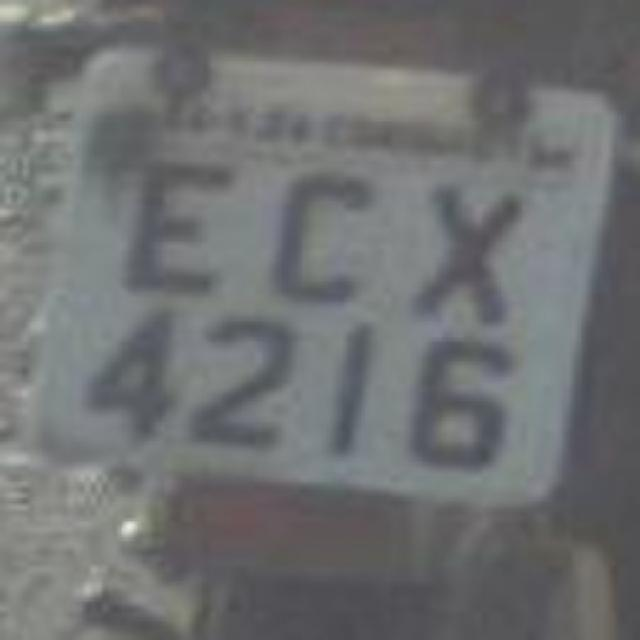1: (300, 304, 408, 464)
2: (172, 296, 320, 472)
4: (72, 288, 200, 484)
6: (396, 308, 532, 472)
C: (244, 152, 376, 296)
E: (96, 151, 229, 304)
X: (388, 156, 528, 312)
